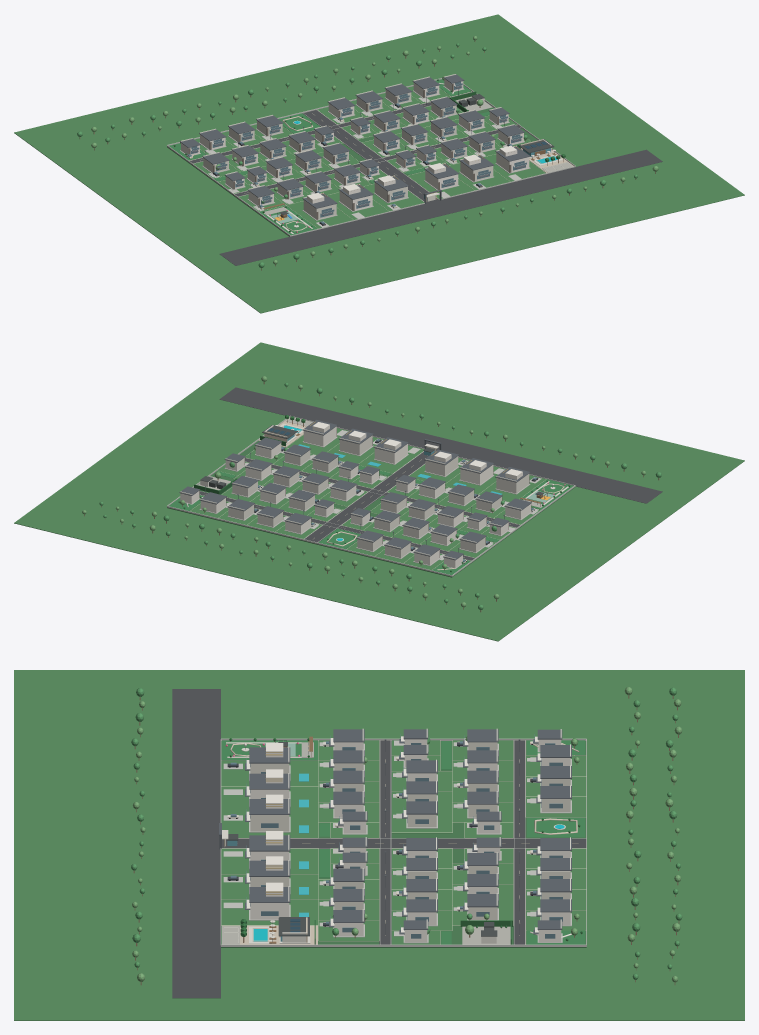
The model's file is luxury-estate-masterplan.glb.
3 renders of one model, top to bottom at view 1: azimuth 30°, elevation 25°; view 2: azimuth 150°, elevation 25°; view 3: azimuth 270°, elevation 25°, orthographic. The views are drawn at different scales.
Parts seen in each view (by area): view 1: ENV_surrounding_terrain, ROAD_external_main, ROAD_main_boulevard_10m, SITE_200x150m, LOT_A01_1000, LOT_A04_1000; view 2: ENV_surrounding_terrain, ROAD_external_main, ROAD_main_boulevard_10m, SITE_200x150m, PERIM_rear, LOT_A04_1000, ROAD_cross_122.5; view 3: ENV_surrounding_terrain, ROAD_external_main, SITE_200x150m, ROAD_cross_67.5, ROAD_cross_122.5, ROAD_main_boulevard_10m, LOT_A02_1000, LOT_A04_1000, LOT_A01_1000, LOT_A03_1000, LOT_A05_1000, LOT_A06_1000 (+12 smaller).
Part boxes in pixels (<box>): ENV_surrounding_terrain: <box>14,14,744,313</box>; ROAD_external_main: <box>219,149,662,265</box>; ROAD_main_boulevard_10m: <box>303,110,439,202</box>; SITE_200x150m: <box>167,101,545,236</box>; LOT_A01_1000: <box>287,201,353,228</box>; LOT_A04_1000: <box>407,171,474,198</box>; ENV_surrounding_terrain: <box>14,342,744,641</box>; ROAD_external_main: <box>219,387,662,503</box>; ROAD_main_boulevard_10m: <box>304,451,428,542</box>; SITE_200x150m: <box>167,435,575,577</box>; PERIM_rear: <box>167,506,451,576</box>; LOT_A04_1000: <box>359,445,423,473</box>; ROAD_cross_122.5: <box>199,491,474,560</box>; ENV_surrounding_terrain: <box>14,670,744,1020</box>; ROAD_external_main: <box>172,689,220,998</box>; SITE_200x150m: <box>221,741,586,947</box>; ROAD_cross_67.5: <box>379,740,391,944</box>; ROAD_cross_122.5: <box>513,740,525,944</box>; ROAD_main_boulevard_10m: <box>222,838,586,848</box>; LOT_A02_1000: <box>221,786,318,812</box>; LOT_A04_1000: <box>221,848,318,873</box>; LOT_A01_1000: <box>221,761,318,786</box>; LOT_A03_1000: <box>221,812,318,837</box>; LOT_A05_1000: <box>221,874,318,899</box>; LOT_A06_1000: <box>221,900,318,925</box>.
Bounding box in the file's own units: 340 × 12.16 × 300.
